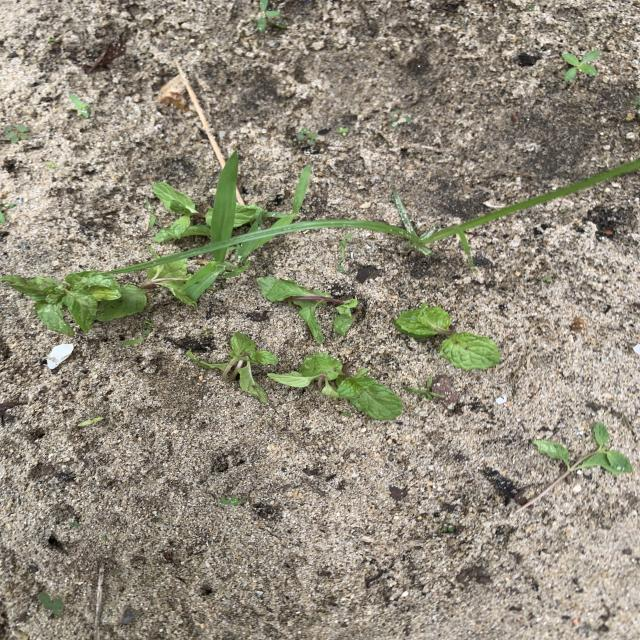crop: (519, 422, 633, 512), (268, 353, 402, 420), (0, 271, 122, 336), (394, 303, 501, 370), (257, 277, 359, 344), (186, 332, 278, 403), (97, 260, 197, 321), (153, 182, 213, 243), (233, 204, 261, 228), (191, 214, 206, 225)
weed: (104, 159, 640, 275), (178, 235, 275, 300), (248, 166, 312, 233), (210, 151, 238, 243), (562, 50, 600, 83), (337, 230, 359, 274)
